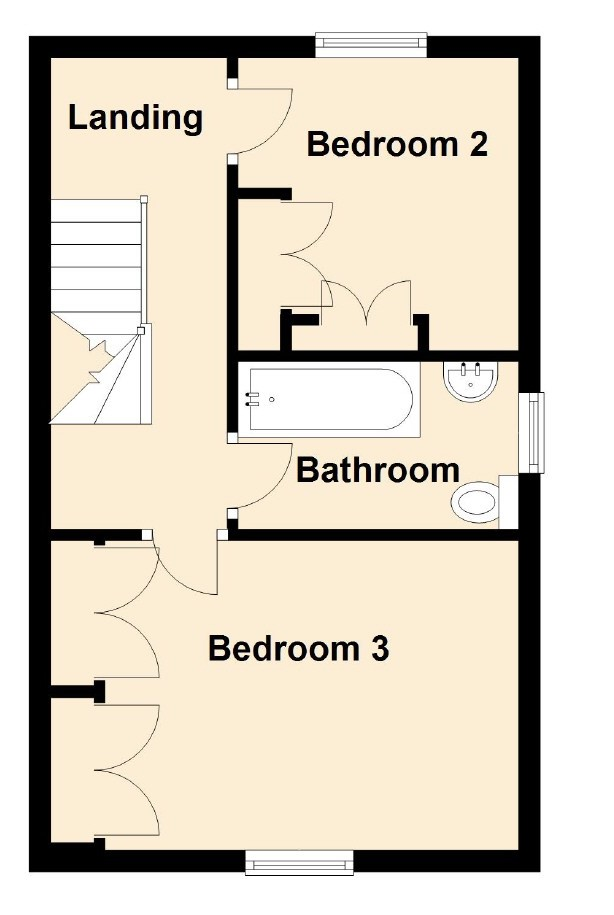wall: (28, 33, 51, 875), (517, 472, 536, 871), (518, 35, 539, 391), (28, 35, 315, 58), (353, 850, 538, 872), (104, 848, 245, 875), (226, 162, 239, 433), (233, 528, 521, 540), (235, 350, 521, 360), (428, 33, 542, 57), (32, 843, 106, 868), (49, 528, 142, 540), (229, 187, 295, 200), (45, 686, 104, 700), (283, 310, 315, 328), (415, 315, 431, 350), (281, 308, 292, 351), (226, 54, 240, 80), (228, 516, 238, 539), (410, 312, 426, 325)
